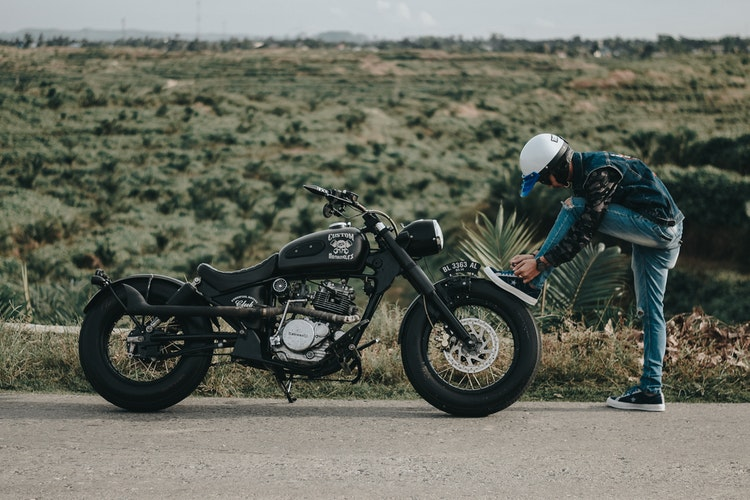helmet: (508, 127, 570, 192)
